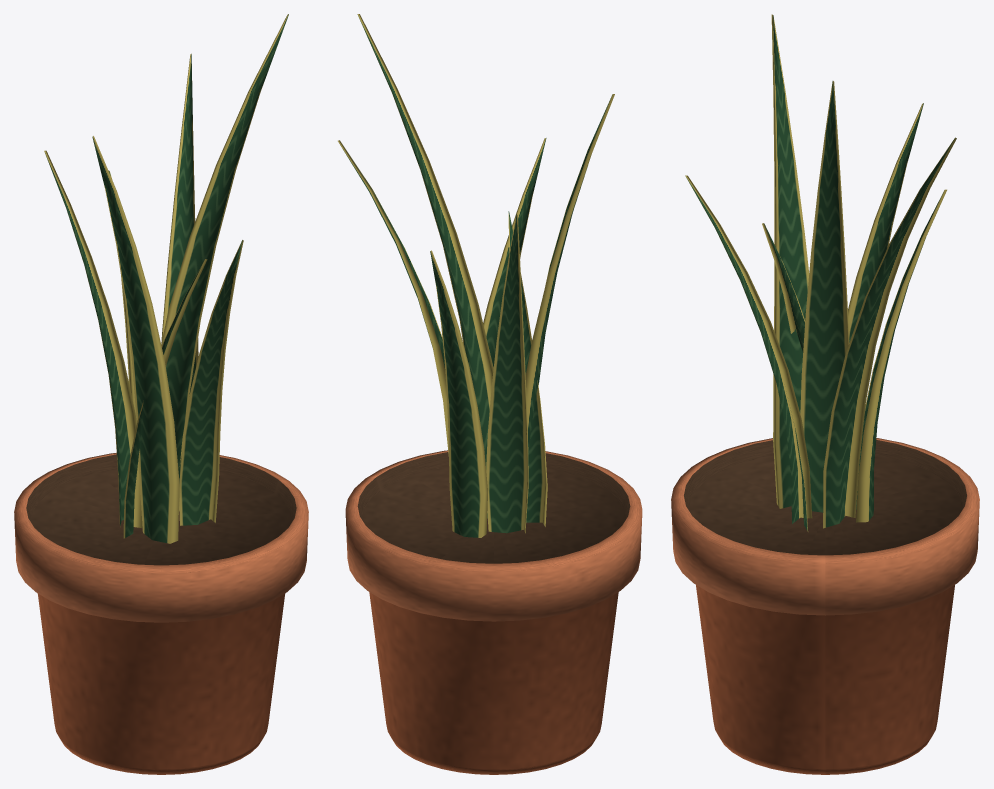
File: desk-plant.glb
3 renders of one model, left to right at view 1: azimuth 30°, elevation 25°; view 2: azimuth 150°, elevation 25°; view 3: azimuth 270°, elevation 25°, orthographic. The views are drawn at different scales.
Parts seen in each view (by area): view 1: desk-plant; view 2: desk-plant; view 3: desk-plant.
Boxes of the visible parts, bbox=[...] form: desk-plant: bbox=[14, 14, 308, 774]; desk-plant: bbox=[338, 14, 642, 774]; desk-plant: bbox=[671, 14, 979, 774].
Size of the model in its own units: 29.65 by 74.6 by 29.2.
1 material, 1 textured.
